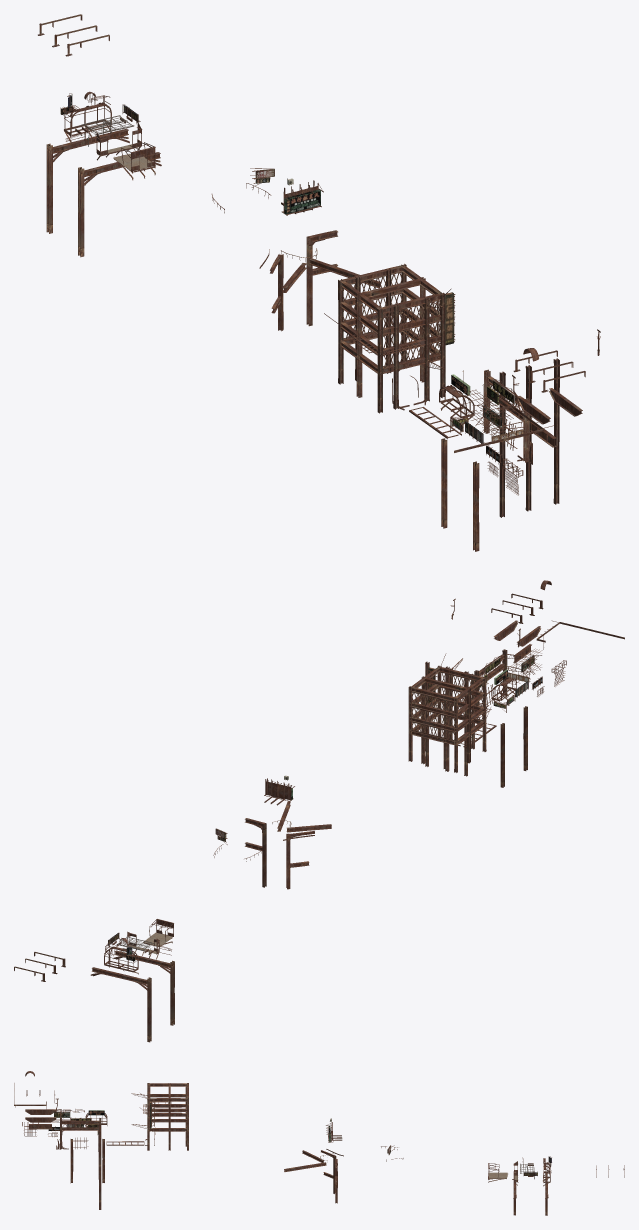
The model's file is SM_Tutorial_BLock_01.fbx.
3 views of the same model, one above another, from view 1: azimuth 30°, elevation 25°; view 2: azimuth 150°, elevation 25°; view 3: azimuth 270°, elevation 25° (orthographic). The views are drawn at different scales.
Visible parts, largest first — view 1: SM_Tutorial_BLock_01, SM_ReeperBahn_00_Metal_00.011, SM_ReeperBahn_00_Metal_00.004; view 2: SM_Tutorial_BLock_01, SM_ReeperBahn_00_Metal_00.004, SM_ReeperBahn_00_Metal_00.011; view 3: SM_ReeperBahn_00_Metal_00.011, SM_Tutorial_BLock_01, SM_ReeperBahn_00_Metal_00.004.
Boxes of the visible parts, bbox=[...] form: SM_Tutorial_BLock_01: bbox=[324, 263, 461, 438]; SM_ReeperBahn_00_Metal_00.011: bbox=[439, 329, 600, 551]; SM_ReeperBahn_00_Metal_00.004: bbox=[38, 14, 380, 331]; SM_Tutorial_BLock_01: bbox=[408, 653, 496, 772]; SM_ReeperBahn_00_Metal_00.004: bbox=[14, 775, 331, 1042]; SM_ReeperBahn_00_Metal_00.011: bbox=[425, 580, 624, 787]; SM_ReeperBahn_00_Metal_00.011: bbox=[14, 1071, 107, 1209]; SM_Tutorial_BLock_01: bbox=[106, 1083, 188, 1150]; SM_ReeperBahn_00_Metal_00.004: bbox=[284, 1118, 624, 1215].
Size of the model in its own units: 6681 by 7247 by 29697.
